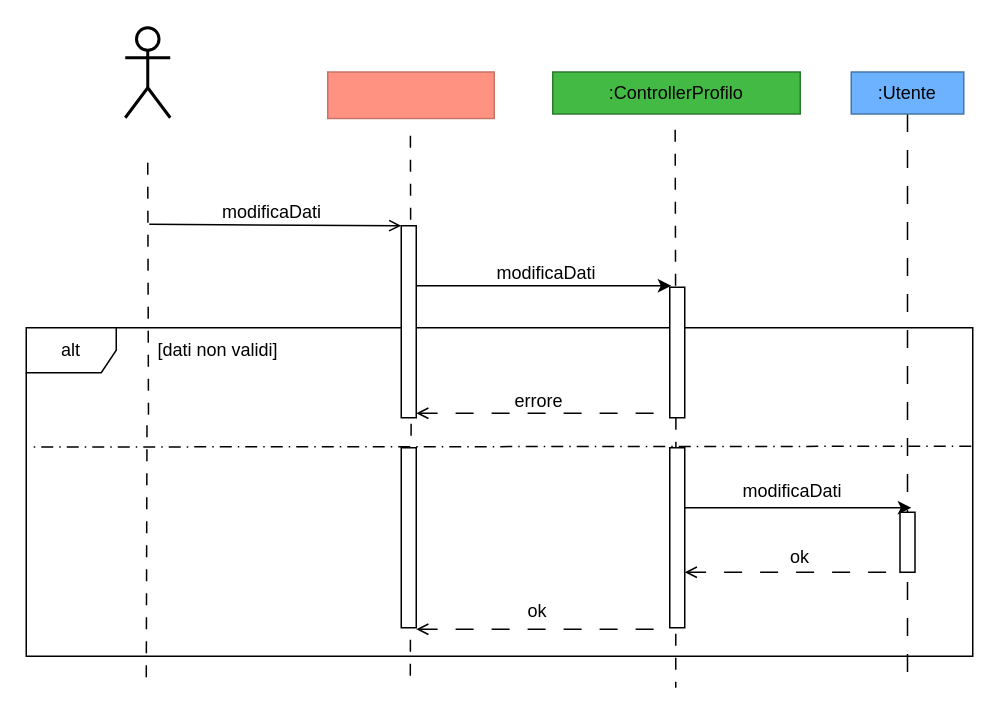
This 999x716 diagram has some shape labels left out. The box of each missing label's shape, as (x1, y1, x2, y2) in pixels:
:ViewModificaProfilo: (326, 70, 494, 118)
Utente: (123, 26, 171, 118)
